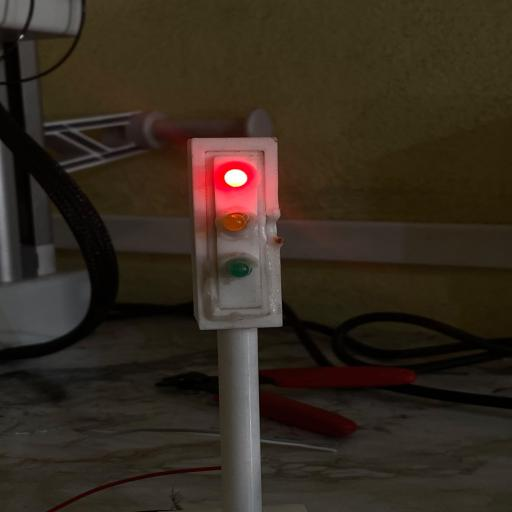Red Light: (215, 160, 259, 191), (224, 169, 247, 187)
